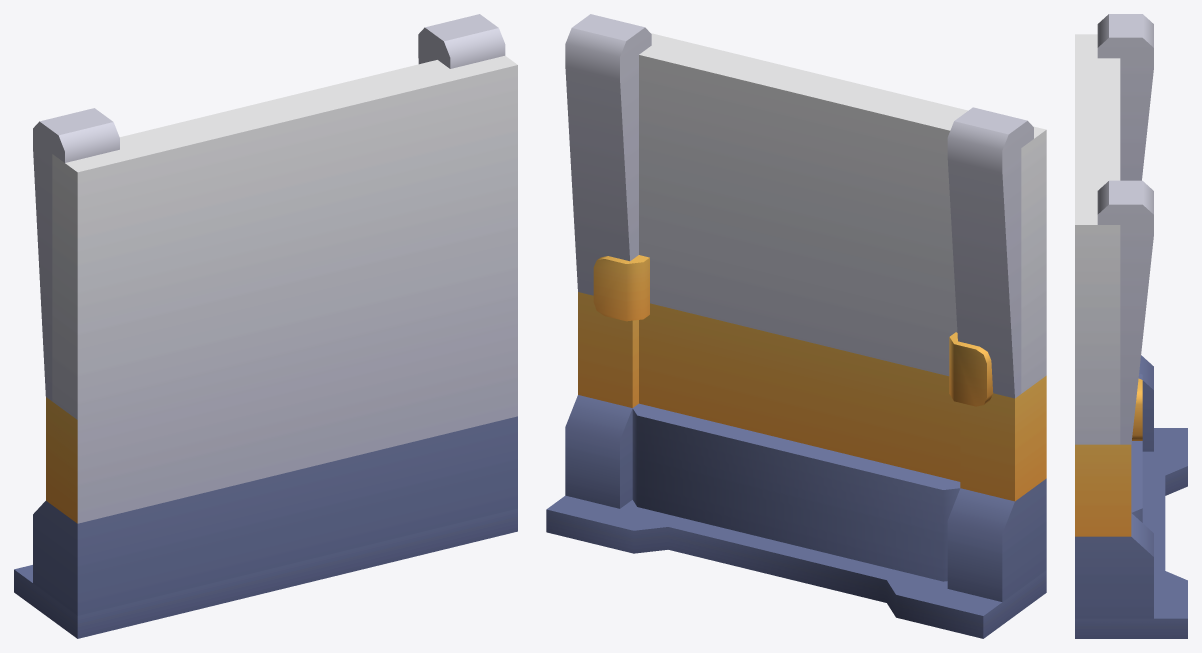
File: template-wall.glb
3 views of the same model, side by side, from view 1: azimuth 30°, elevation 25°; view 2: azimuth 150°, elevation 25°; view 3: azimuth 270°, elevation 25° (orthographic). The views are drawn at different scales.
Parts seen in each view (by area): view 1: template-wall; view 2: template-wall; view 3: template-wall.
Part boxes in pixels (<box>): template-wall: <box>14,14,517,638</box>; template-wall: <box>546,14,1046,638</box>; template-wall: <box>1075,14,1187,638</box>.
Size of the model in its own units: 4 by 4.25 by 1.
1 material, 1 textured.
